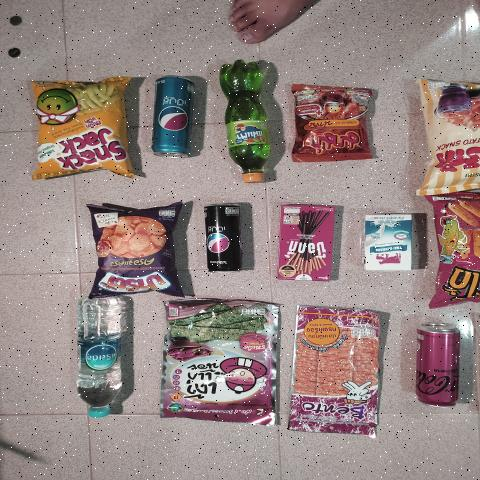bento_red: (294, 308, 376, 440)
coke_red: (414, 322, 462, 406)
crystal: (72, 298, 133, 424)
fanta_green: (220, 54, 276, 184)
mama: (289, 88, 365, 161)
party_purple: (92, 208, 178, 292)
pepsi_black: (204, 201, 244, 277)
pepsi_blue: (141, 73, 201, 164)
pokki: (277, 206, 332, 282)
snack_jack: (35, 78, 135, 170)
taokaenoi: (161, 302, 273, 424)
thai_denmark: (364, 213, 415, 271)
